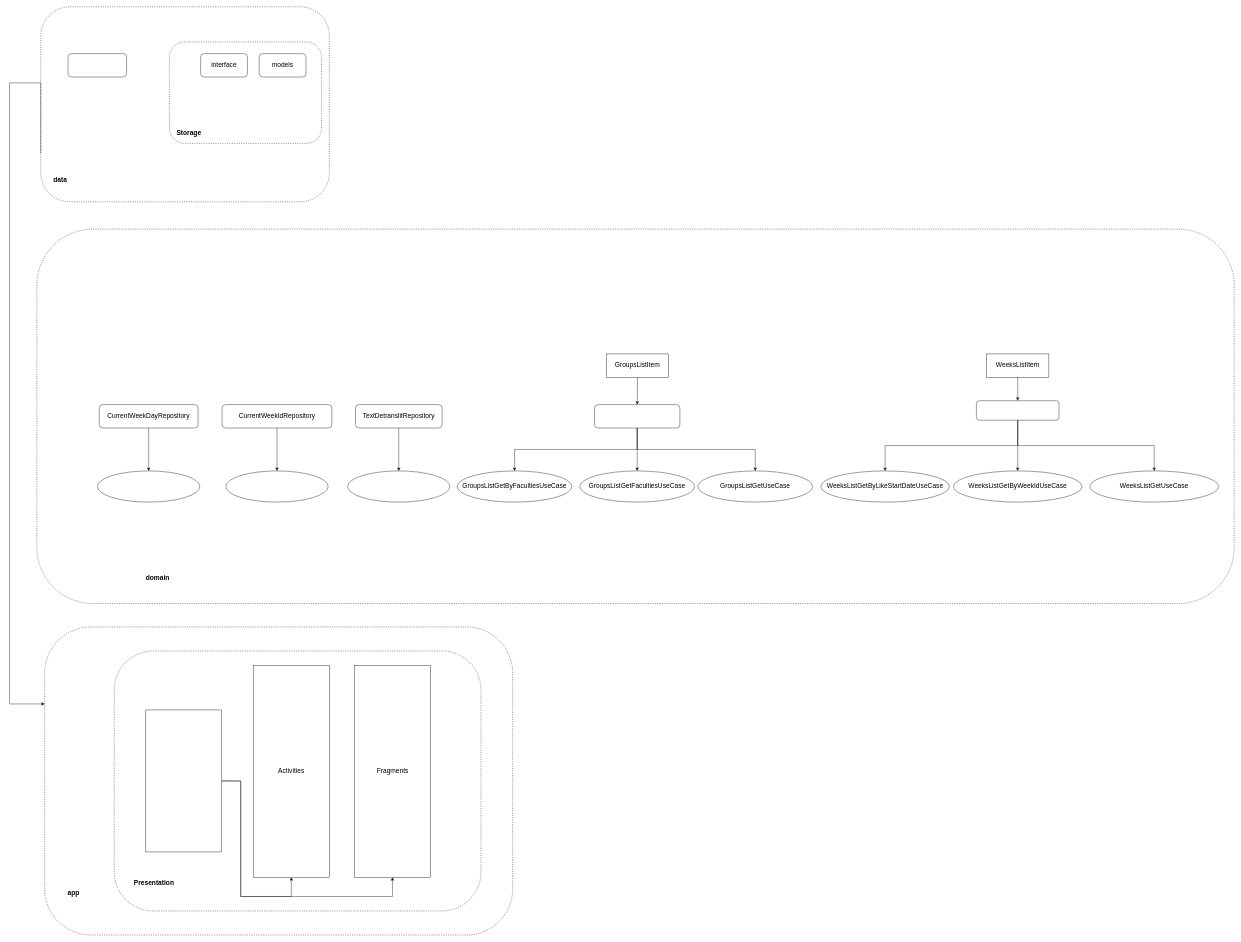
Image size: 1241x942. Some labels were removed from this diagram. The centre of each missing label's shape, as x and y in pixels:
"CurrentWeekDayGetUseCase" belongs at (148,486).
"CurrentWeekIdGetUseCase" belongs at (276,486).
"GroupsListRepository" belongs at (637,416).
"implementation" belongs at (97,65).
"TextDetranslitUseCase" belongs at (398,486).
"ViewModel" belongs at (183,781).
"WeeksListRepository" belongs at (1017,410).
